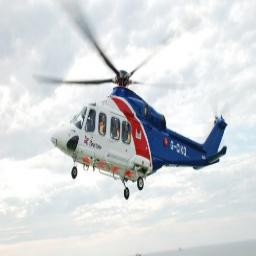helicopter: (43, 24, 238, 207)
